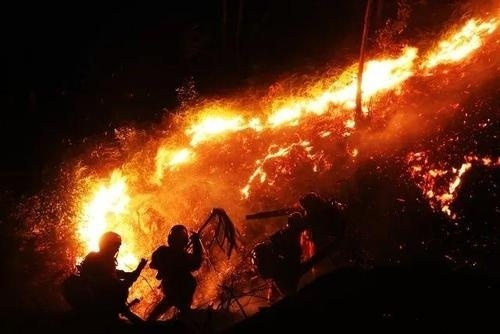fire: (406, 148, 494, 215)
